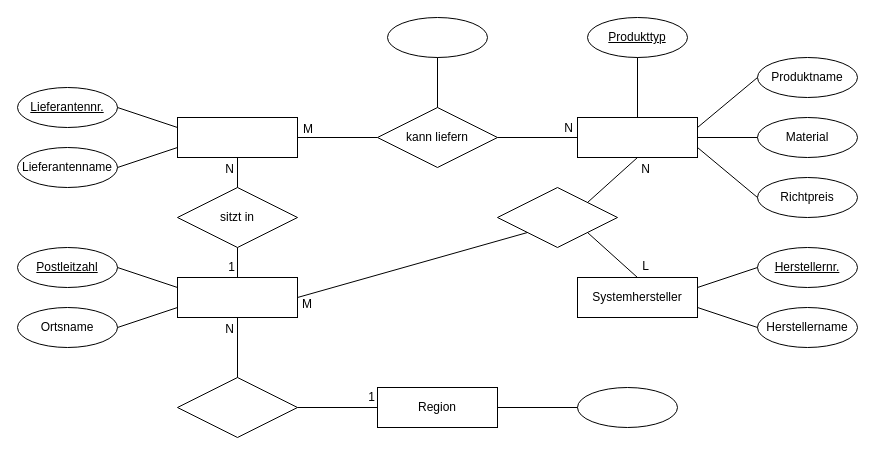
Some shapes in this 875 by 455 pixel diagram are drawn without their labels. The centre of each missing label's shape, as x and y in pixels:
"gehört zu" goes at (237,407).
"Kapazität" goes at (437,37).
"Lieferant" goes at (237,137).
"Ort" goes at (237,297).
"Produkt" goes at (637,137).
"produziert" goes at (557,217).
"Regionsname" goes at (627,407).
